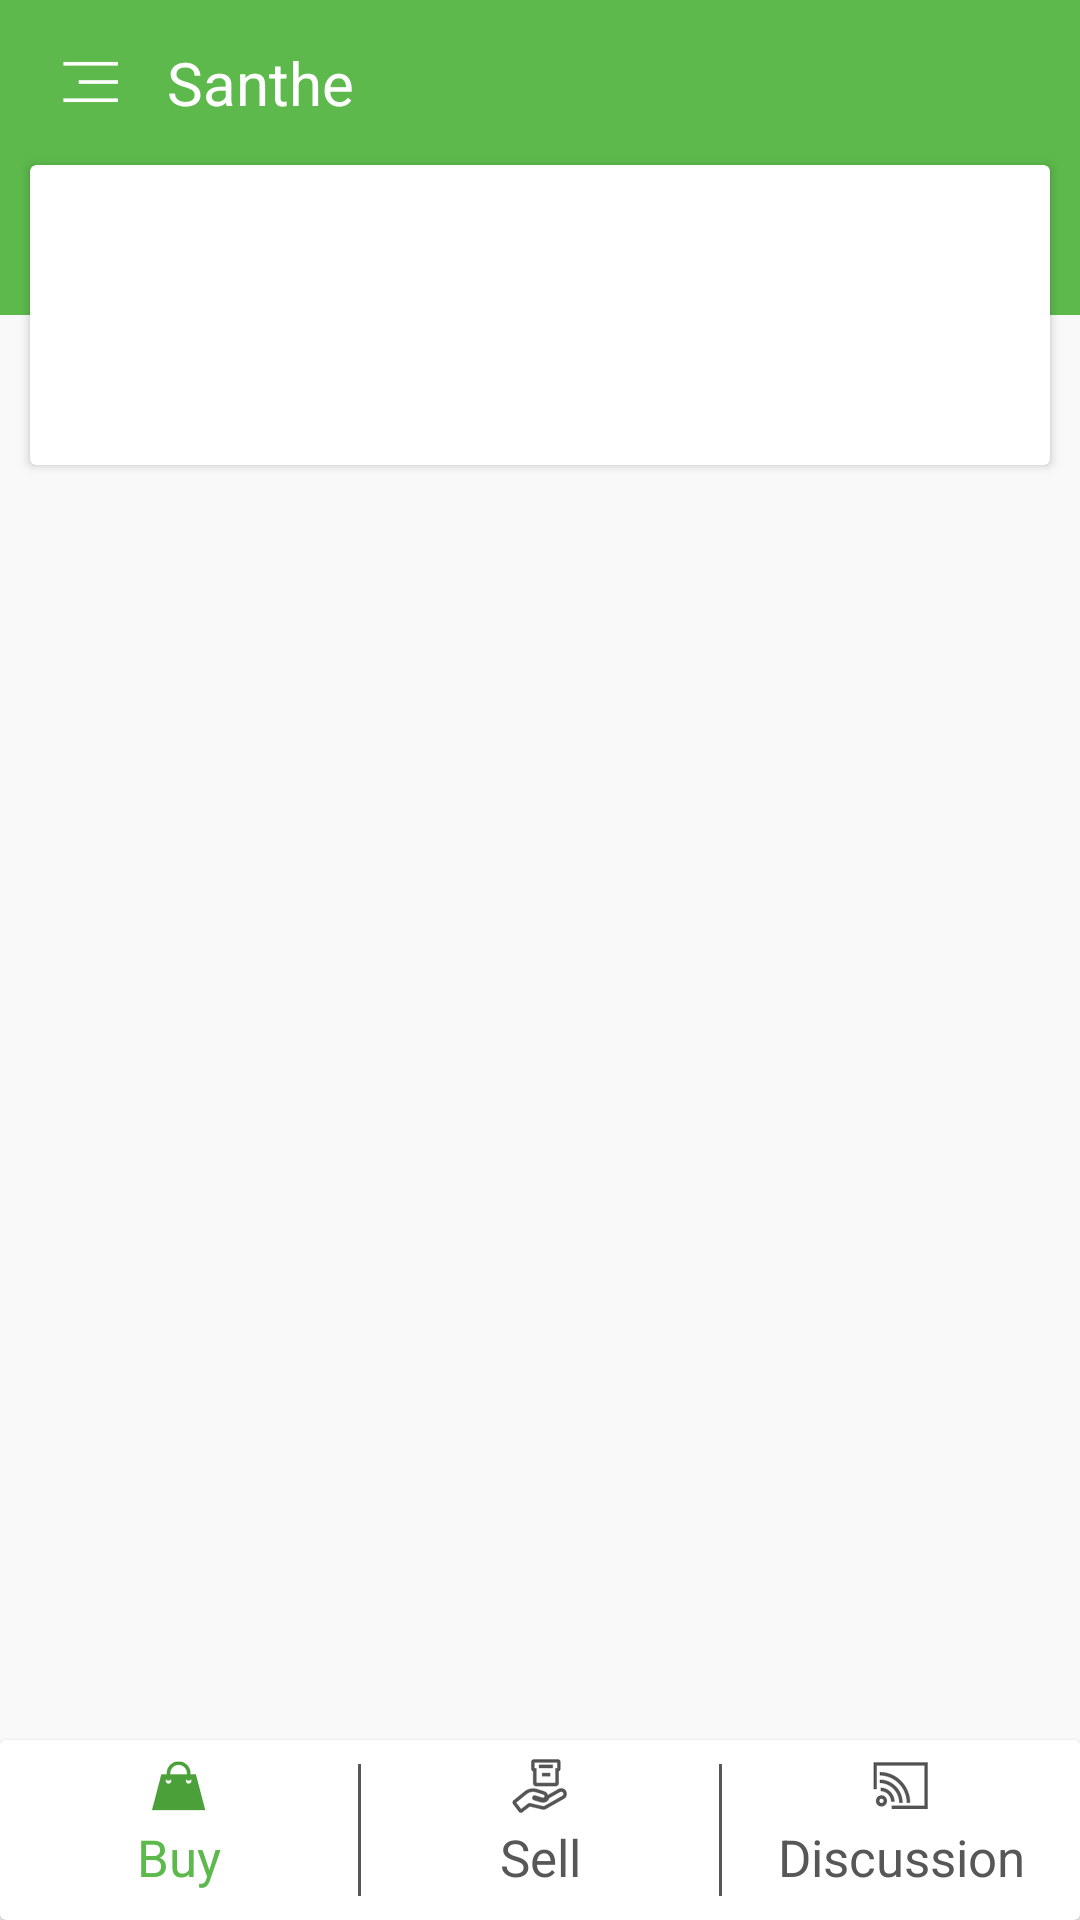

Icon bounding boxes for this 1080x1920 phone screenshot, format [left=x1, top=y1, right=x2, bottom=y2]:
navigation: [left=63, top=62, right=118, bottom=102]
